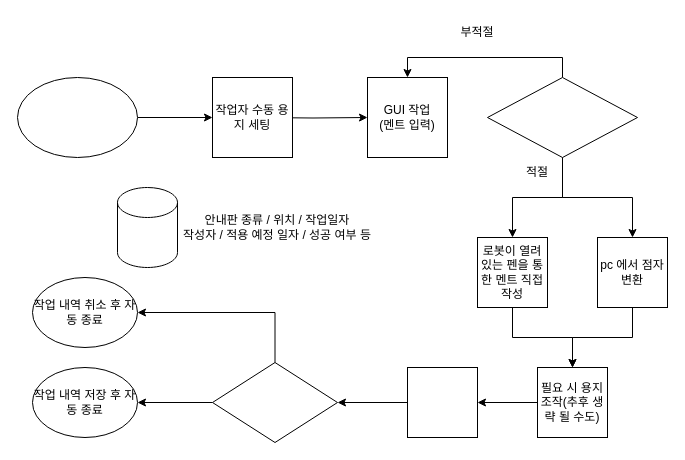
Some shapes in this 685 by 460 pixel diagram are drawn without their labels. Each missing label, with the centre of its shape:
결과물 작업자 확인: the point at 275,402
로봇이 점필을 통해 변환된 점자 작성: the point at 442,402
멘트 적절성 판별(멘트 길이): the point at 562,117
작업자 시작: the point at 77,117
